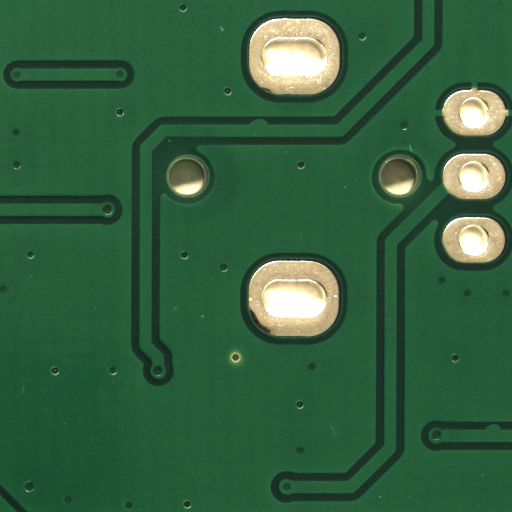Spur: (257, 122, 278, 129), (492, 425, 509, 433)
